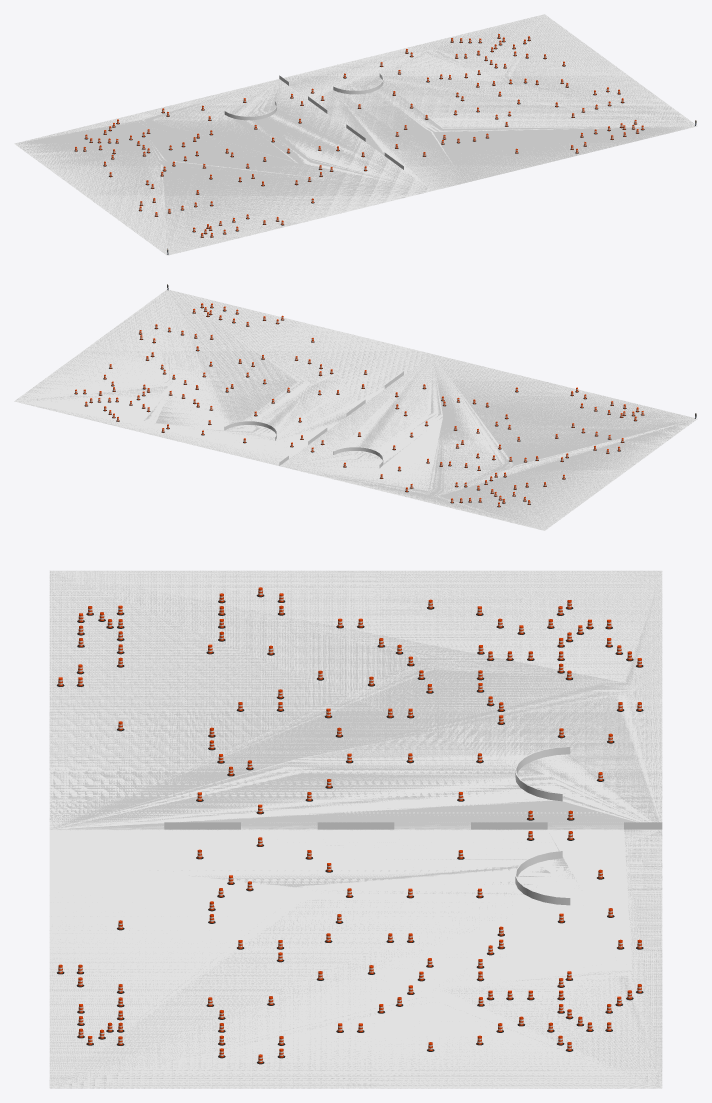
Rendered from IGVC Course 500 by 250 - 5 in.dae.
3 views of the same model, one above another, from view 1: azimuth 30°, elevation 25°; view 2: azimuth 150°, elevation 25°; view 3: azimuth 270°, elevation 25° (orthographic). The views are drawn at different scales.
Visible parts, largest first — view 1: SketchUp, image_0, image_1; view 2: SketchUp, image_0, image_1; view 3: SketchUp (×3), image_0, image_1.
Part boxes in pixels (x1,y1,x2,y2): SketchUp: (14, 14, 697, 255); image_0: (15, 79, 430, 255); image_1: (283, 14, 696, 190); SketchUp: (14, 289, 697, 530); image_0: (280, 354, 695, 530); image_1: (14, 290, 431, 465); SketchUp (×3): (49, 570, 662, 1088); image_0: (49, 570, 662, 829); image_1: (49, 829, 662, 1088).
Size of the model in its own units: 500 by 250 by 5.55.
